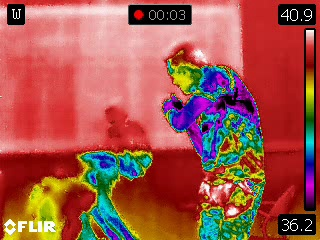human: (161, 41, 268, 240), (17, 104, 155, 240)
